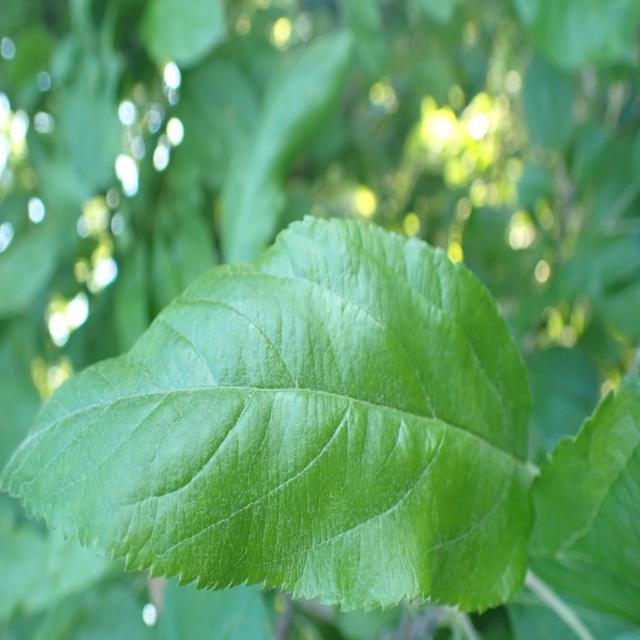healthy: (0, 213, 537, 614), (525, 366, 640, 626)
